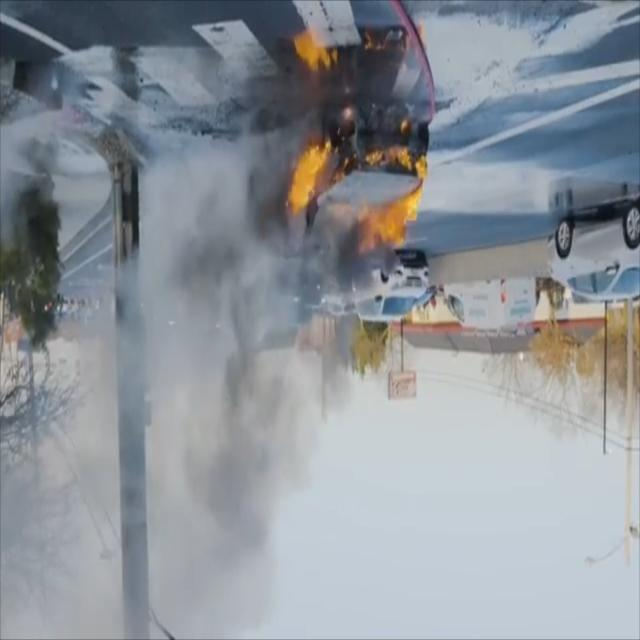fire: (286, 120, 432, 260), (293, 30, 415, 79)
